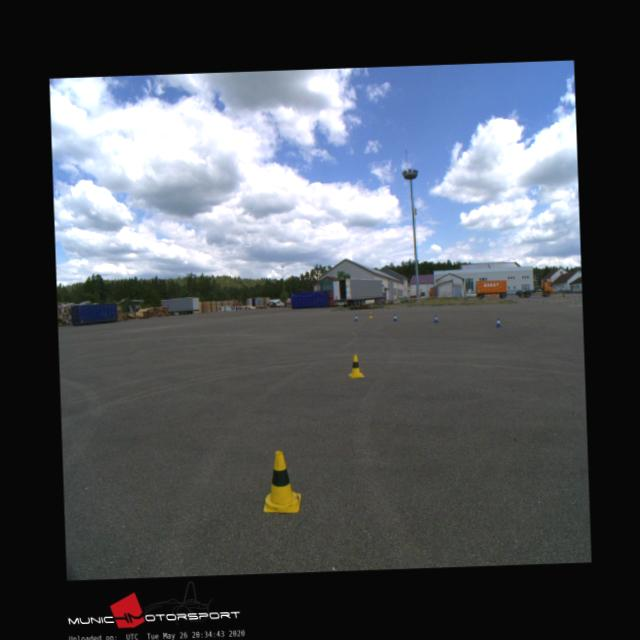blue_cone: (494, 316, 500, 328), (392, 314, 398, 322), (433, 314, 438, 322), (354, 314, 358, 320)
yellow_cone: (260, 450, 300, 512), (346, 354, 364, 378), (368, 311, 372, 318)
